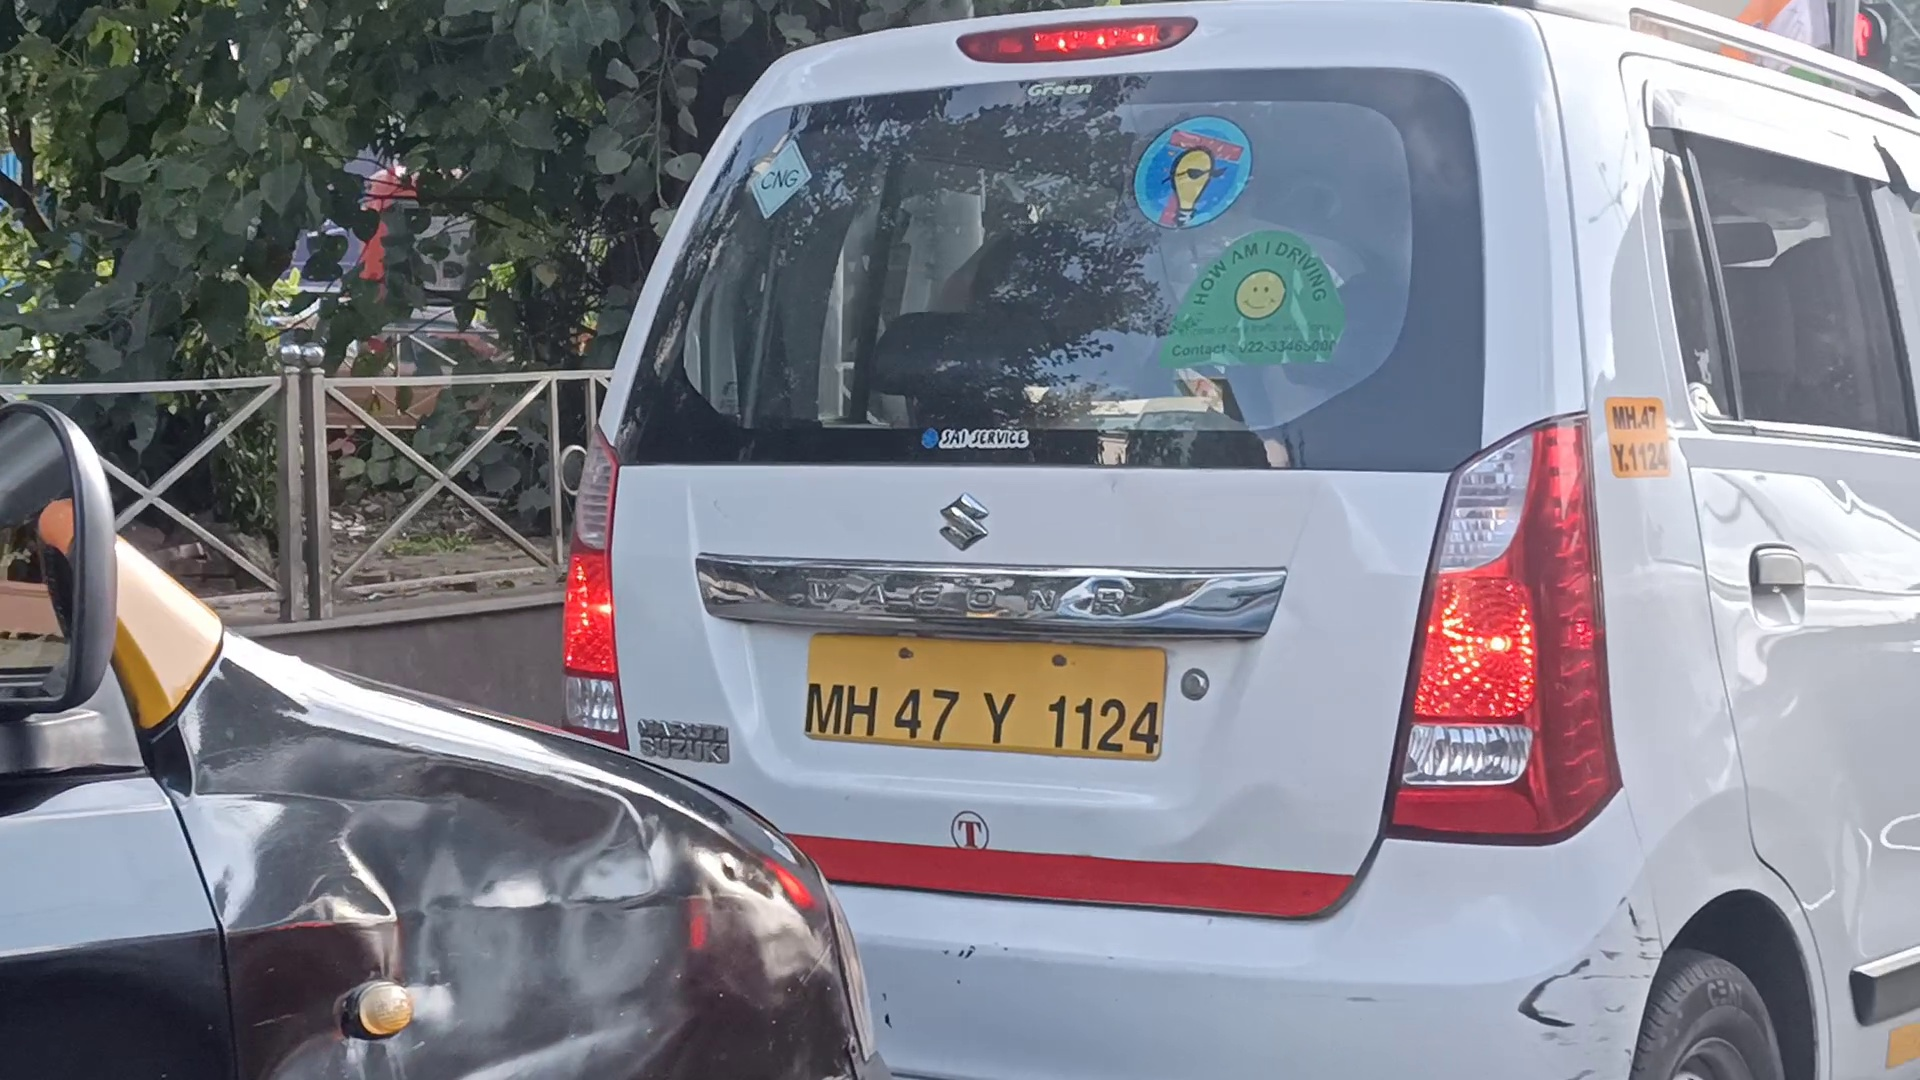MH47Y1124: (802, 636, 1171, 761)
